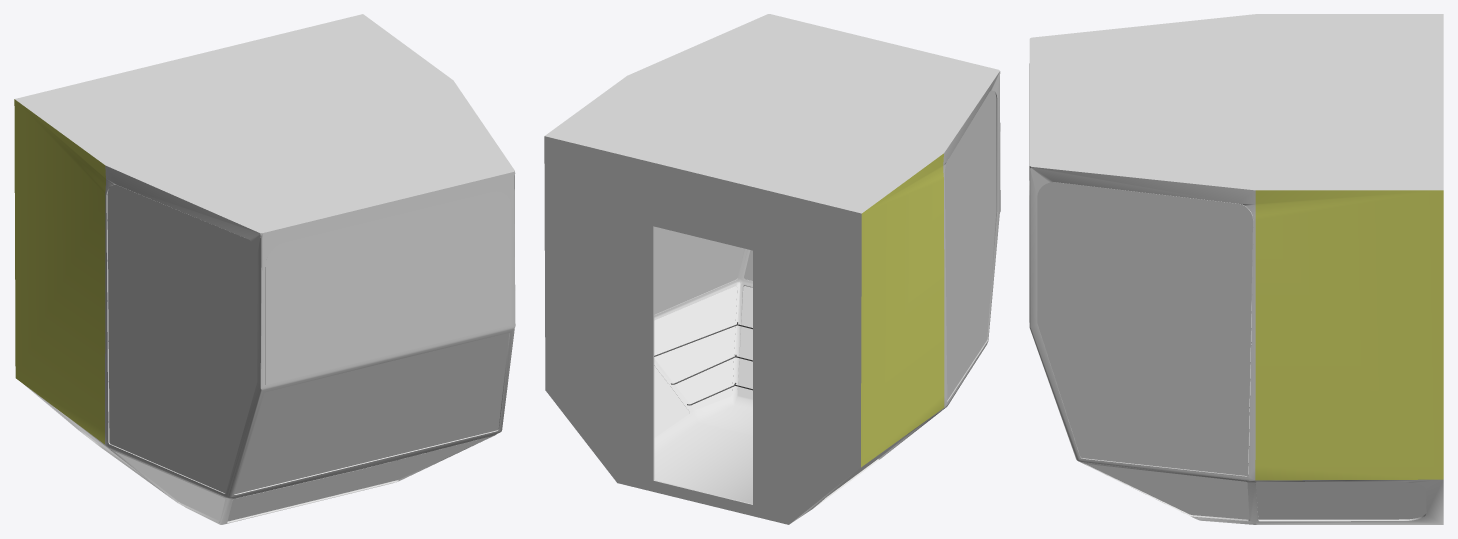
The model's file is SmallCabin.fbx.
3 renders of one model, left to right at view 1: azimuth 30°, elevation 25°; view 2: azimuth 150°, elevation 25°; view 3: azimuth 270°, elevation 25°, orthographic. The views are drawn at different scales.
Parts seen in each view (by area): view 1: Cabin, Cabin.005; view 2: Cabin, Cabin.005; view 3: Cabin, Cabin.005.
Part boxes in pixels (bbox=[...]): Cabin: bbox=[14, 14, 515, 524]; Cabin.005: bbox=[54, 184, 511, 521]; Cabin: bbox=[544, 14, 1000, 524]; Cabin.005: bbox=[654, 90, 996, 495]; Cabin: bbox=[1029, 14, 1443, 524]; Cabin.005: bbox=[1029, 63, 1426, 519].
Size of the model in its own units: 196 by 194 by 195.
